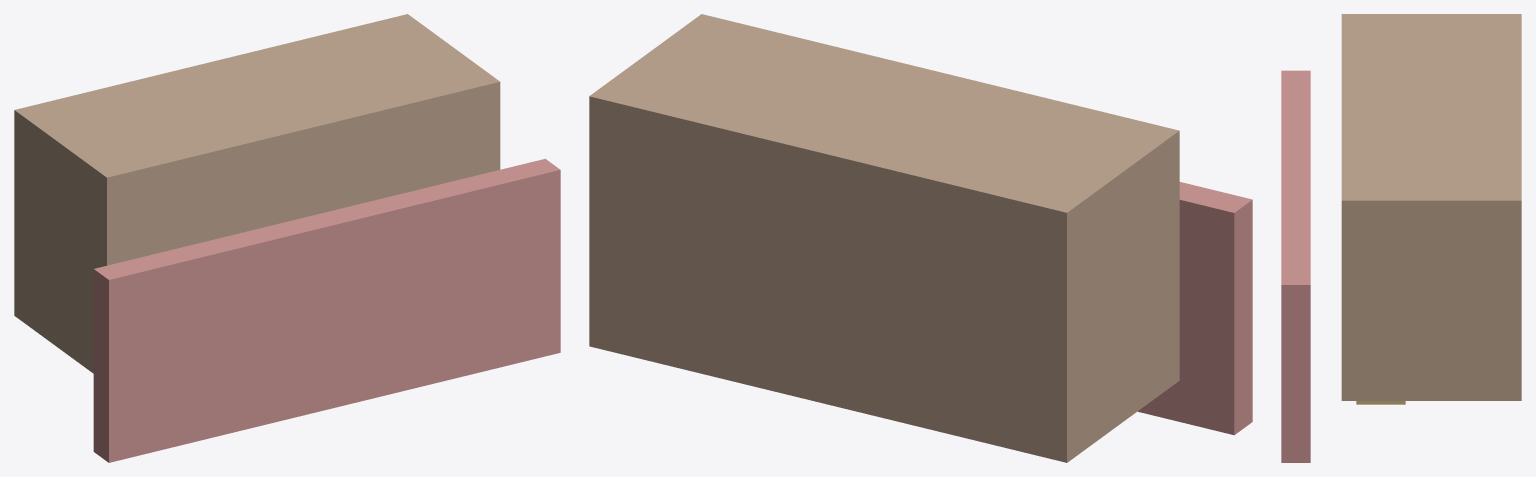
The model's file is bus_shelter.glb.
3 renders of one model, left to right at view 1: azimuth 30°, elevation 25°; view 2: azimuth 150°, elevation 25°; view 3: azimuth 270°, elevation 25°, orthographic. The views are drawn at different scales.
Visible parts, largest first — view 1: salmon, wood2; view 2: wood2, salmon; view 3: wood2, salmon.
Boxes of the visible parts, left/top/right/bottom form: salmon: left=93, top=158, right=560, bottom=462; wood2: left=14, top=14, right=500, bottom=373; wood2: left=589, top=14, right=1179, bottom=462; salmon: left=1138, top=182, right=1252, bottom=435; wood2: left=1341, top=14, right=1521, bottom=400; salmon: left=1281, top=70, right=1310, bottom=462.
Bounding box in the file's own units: 3.1 × 1.68 × 1.47.
